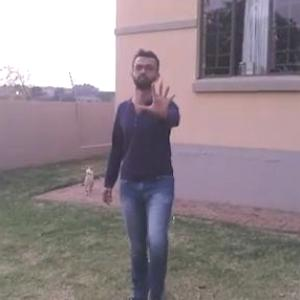follow_hand: (136, 73, 179, 120)
